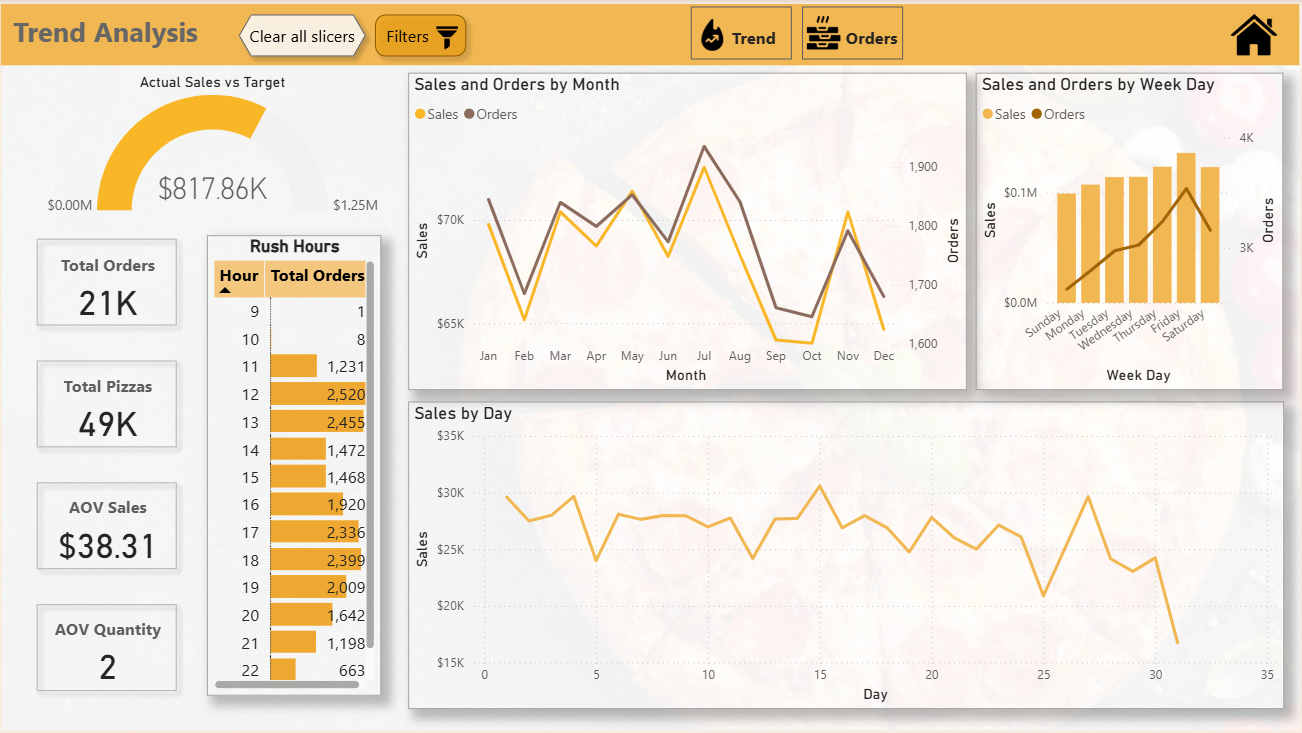

The dashboard page shown, as its layout file describes it:
{"tool":"powerbi","page":{"name":"Trend Analysis","canvas":[1280,720],"ordinal":1},"visuals":[{"type":"image","box":[0,0,1280,720.2],"z":0},{"type":"shape","box":[4,5.2,1270.4,60.3],"z":0,"group":"g1"},{"type":"textbox","box":[10.8,8.4,194.2,47.1],"z":1000,"group":"g1"},{"type":"cardVisual","fields":{"Data":["DAXMeasures.Total Orders","DAXMeasures.Total Pizzas","DAXMeasures.AOV Sales","DAXMeasures.AOV Quantity"]},"box":[21.7,217.2,171.3,476.5],"z":1000},{"type":"actionButton","box":[228,6,142.4,59.1],"z":2000,"group":"g1"},{"type":"gauge","title":"Actual Sales vs Target","fields":{"Y":["DAXMeasures.Total Sales"],"MaxValue":["DAXMeasures.Target Sales"]},"box":[37.4,72.4,346.2,144.8],"z":2000},{"type":"actionButton","box":[360.7,6,107.4,59.1],"z":3000,"group":"g1"},{"type":"lineChart","fields":{"Y":["DAXMeasures.Total Sales"],"Y2":["DAXMeasures.Total Orders"],"Category":["DimDate.Month Name"]},"box":[401.7,72.4,546.5,310.1],"z":3000},{"type":"image","box":[424.6,19.3,32.6,36.2],"z":4000,"group":"g1"},{"type":"tableEx","title":"Rush Hours","fields":{"Values":["FactOrders.Hour","DAXMeasures.Total Orders"]},"box":[205.1,231.6,170.1,450],"z":4000},{"type":"lineChart","fields":{"Y":["DAXMeasures.Total Sales"],"Category":["DimDate.Month Day"]},"box":[401.7,393.3,856.6,300.4],"z":5000},{"type":"lineClusteredColumnComboChart","fields":{"Category":["DimDate.Week Day"],"Y":["DAXMeasures.Total Sales"],"Y2":["DAXMeasures.Total Orders"]},"box":[957.9,72.4,300.4,310.1],"z":6000},{"type":"group","id":"g1","title":"TrendHeader","box":[4,5.2,1270.4,60.3],"z":7000,"group":"g4"},{"type":"image","box":[1202.8,7.2,55.5,55.5],"z":9000,"group":"g4"},{"type":"image","box":[676,14.4,47.1,41],"z":9000,"group":"g2"},{"type":"group","id":"g2","title":"Group 1","box":[676,7.2,107.4,51.9],"z":10000,"group":"g4"},{"type":"actionButton","box":[678,7.2,98.9,51.9],"z":10500,"group":"g2"},{"type":"image","box":[787.8,8.4,42.2,49.5],"z":11000,"group":"g3"},{"type":"textbox","box":[713.4,21.7,70,35],"z":12000,"group":"g2"},{"type":"actionButton","box":[787.8,7.2,98.9,51.9],"z":12002,"group":"g3"},{"type":"textbox","box":[825.2,21.7,70,35],"z":12502,"group":"g3"},{"type":"group","id":"g3","title":"Group 2","box":[787.8,7.2,107.4,51.9],"z":13000,"group":"g4"},{"type":"group","id":"g4","title":"TrendHeader","box":[4,5.2,1270.4,60.3],"z":13001}]}

Visuals, with their boxes in screenshot pixels (x1, y1, x2, y2), scaled from the page's 1280x720 canvas onto the 1302x733 screenshot:
image: 0/0/1301/732
shape: 4/5/1296/67
textbox: 11/9/209/57
cardVisual - DAXMeasures.Total Orders x DAXMeasures.Total Pizzas: 22/221/196/706
actionButton: 232/6/377/66
"Actual Sales vs Target" gauge: 38/74/390/221
actionButton: 367/6/476/66
lineChart - DAXMeasures.Total Sales x DAXMeasures.Total Orders: 409/74/964/389
image: 432/20/465/57
"Rush Hours" tableEx: 209/236/382/694
lineChart - DAXMeasures.Total Sales x DimDate.Month Day: 409/400/1280/706
lineClusteredColumnComboChart - DimDate.Week Day x DAXMeasures.Total Sales: 974/74/1280/389
"TrendHeader" group: 4/5/1296/67
image: 1223/7/1280/64
image: 688/15/736/56
"Group 1" group: 688/7/797/60
actionButton: 690/7/790/60
image: 801/9/844/59
textbox: 726/22/797/58
actionButton: 801/7/902/60
textbox: 839/22/911/58
"Group 2" group: 801/7/911/60
"TrendHeader" group: 4/5/1296/67
